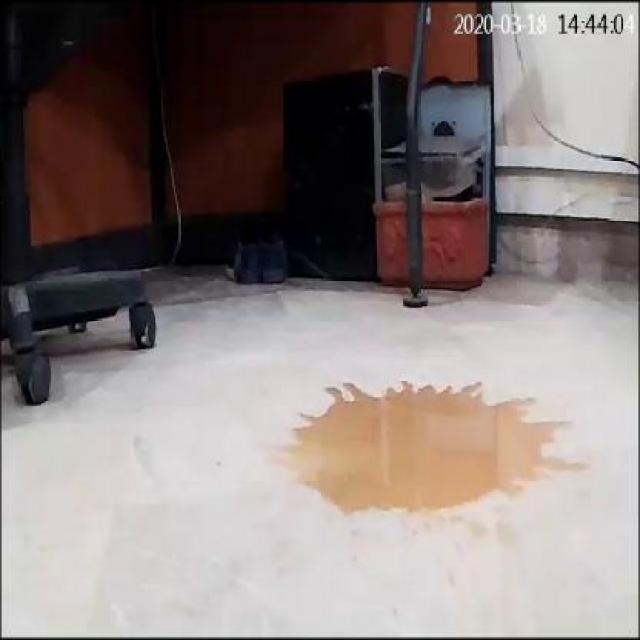spill: (268, 374, 592, 516)
